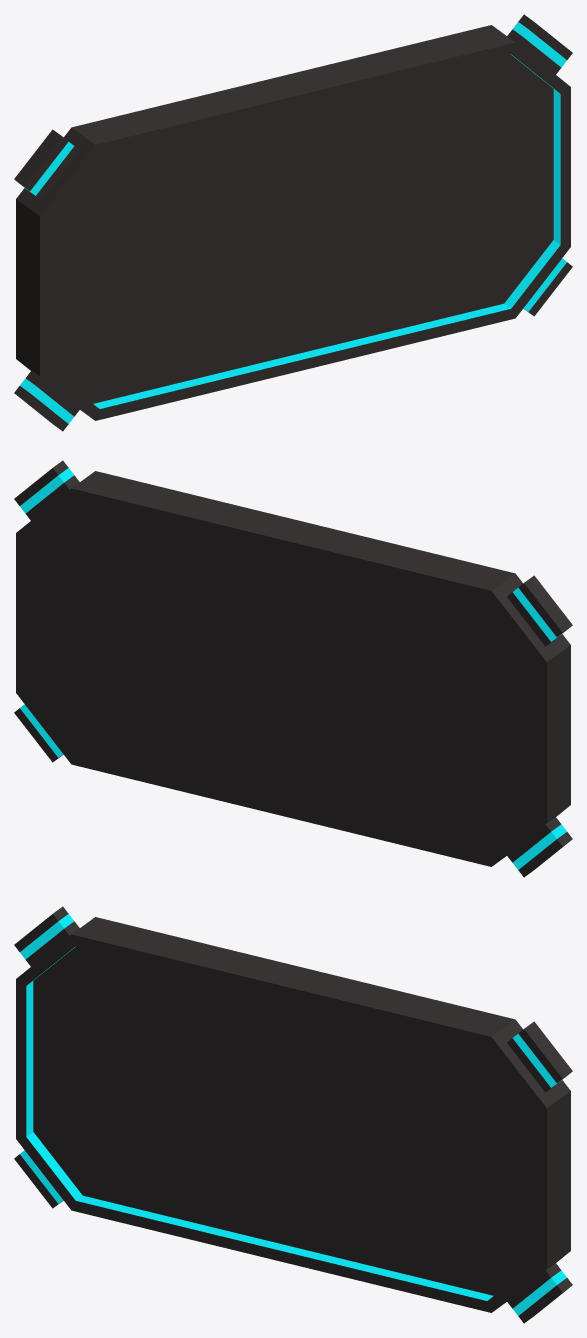
The model's file is claimpad.gltf.
3 views of the same model, one above another, from view 1: azimuth 30°, elevation 25°; view 2: azimuth 150°, elevation 25°; view 3: azimuth 330°, elevation 25° (orthographic).
Visible parts, largest first — view 1: claimpad; view 2: claimpad; view 3: claimpad.
Boxes of the visible parts, left/top/right/bottom form: claimpad: left=14, top=14, right=572, bottom=431; claimpad: left=14, top=460, right=572, bottom=877; claimpad: left=14, top=906, right=572, bottom=1323.
Bounding box in the file's own units: 1.54 × 0.7915 × 0.1165.
Materials: 2 (2 with a texture image).
